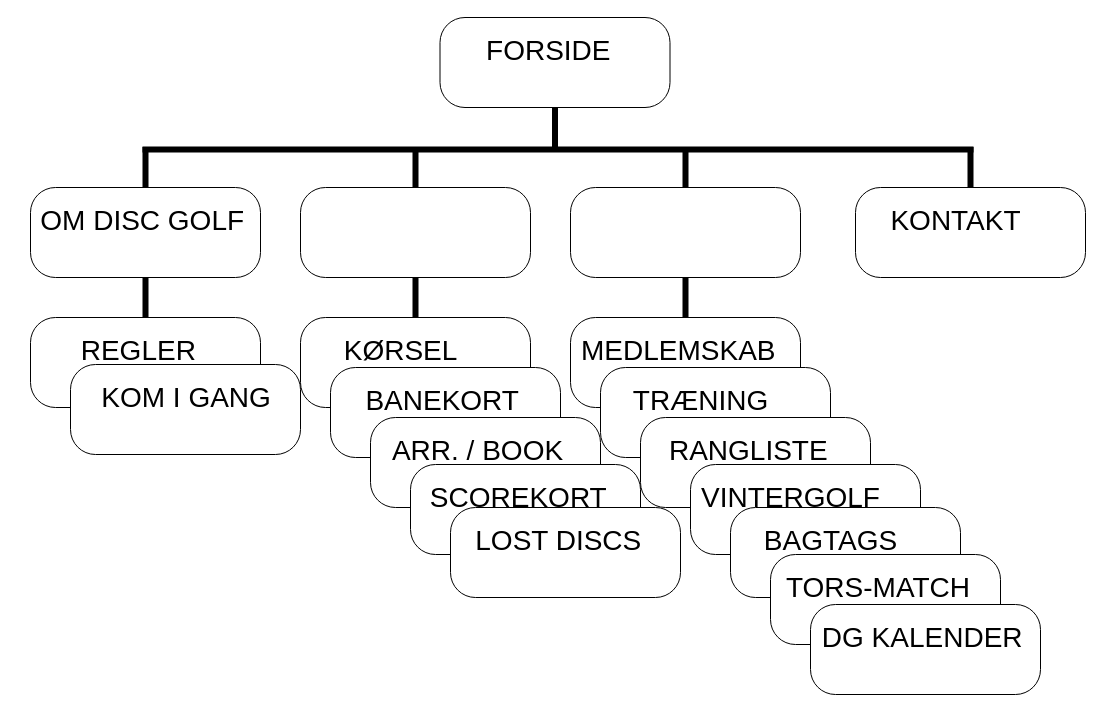
The diagram is 1103 pixels wide and 712 high, and some of its shapes have lost their labels. The shapes that lost their labels are listed below. From the top down, each one's centre as x and y in pixels, then its label:
At [415,232]: "BANEN".
At [685,232]: "KFK".
